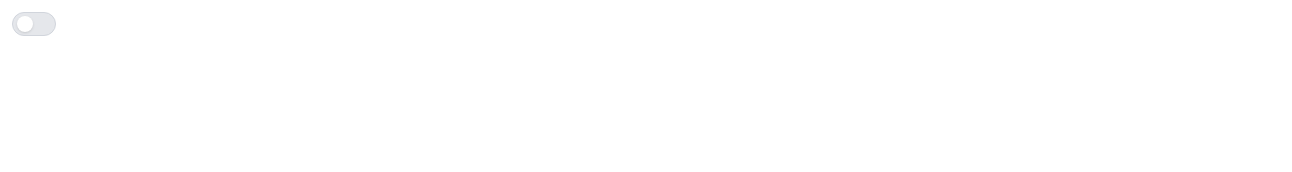
AgentAccessSwitch › reverts and shows ErrorNotice on a server error
The width and height of the screenshot is (1292, 172).
Click the switch named "AgentHub Access" at [34, 24], box [12,12,56,36]
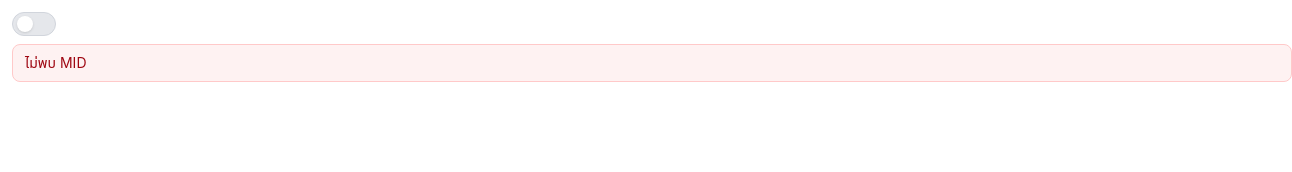
Expected: the message "ไม่พบ MID" is shown, [12,44,1291,82]
Expected: the message reads "ไม่พบ MID", [25,54,86,71]
